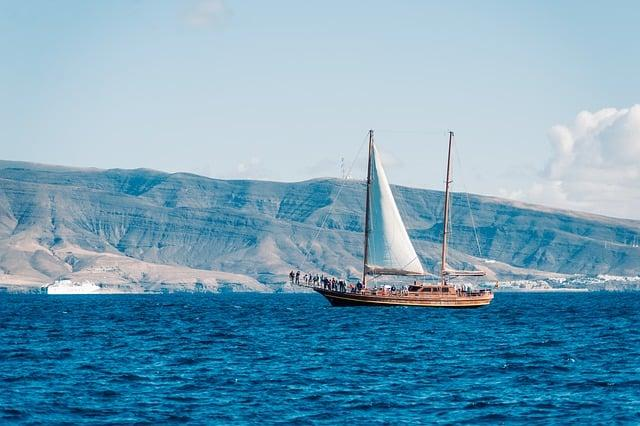Ship: (315, 131, 495, 308)
